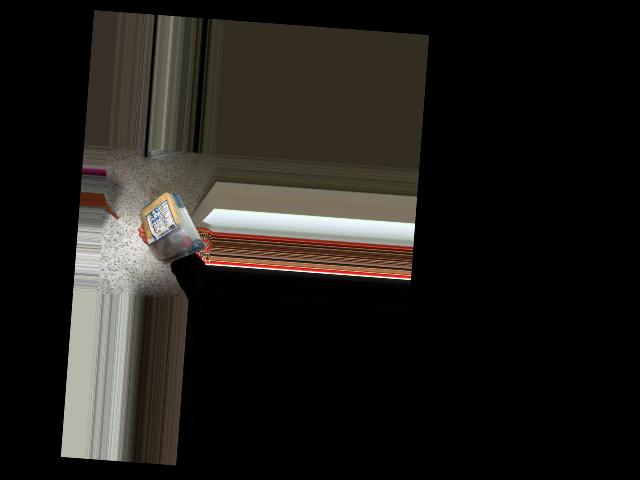cheese: (130, 185, 212, 270)
